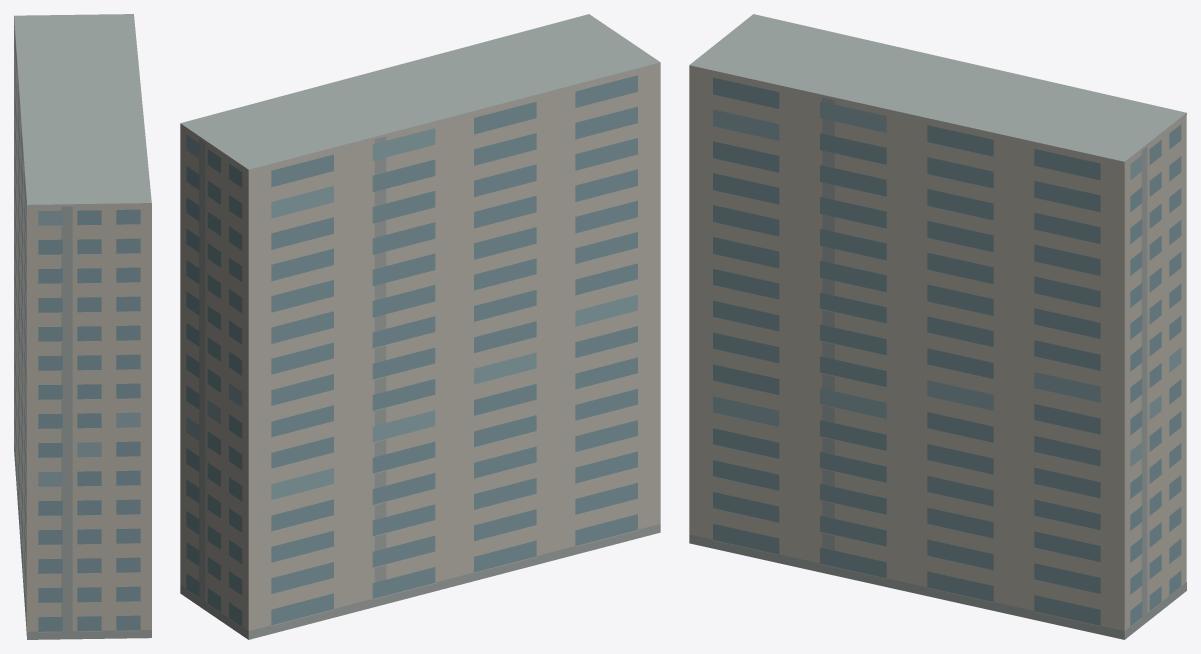
The model's file is survey-upis-32742574.glb.
3 renders of one model, left to right at view 1: azimuth 30°, elevation 25°; view 2: azimuth 150°, elevation 25°; view 3: azimuth 270°, elevation 25°, orthographic. The views are drawn at different scales.
Visible parts, largest first — view 1: survey-upis-32742574.tmp; view 2: survey-upis-32742574.tmp; view 3: survey-upis-32742574.tmp.
Boxes of the visible parts, x1,y1,x2,y2 form: survey-upis-32742574.tmp: [14, 14, 151, 639]; survey-upis-32742574.tmp: [180, 14, 660, 639]; survey-upis-32742574.tmp: [689, 14, 1186, 639].
Size of the model in its own units: 30.34 by 45.75 by 43.16.
